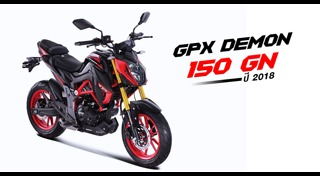motorcycle: (21, 12, 172, 169)
